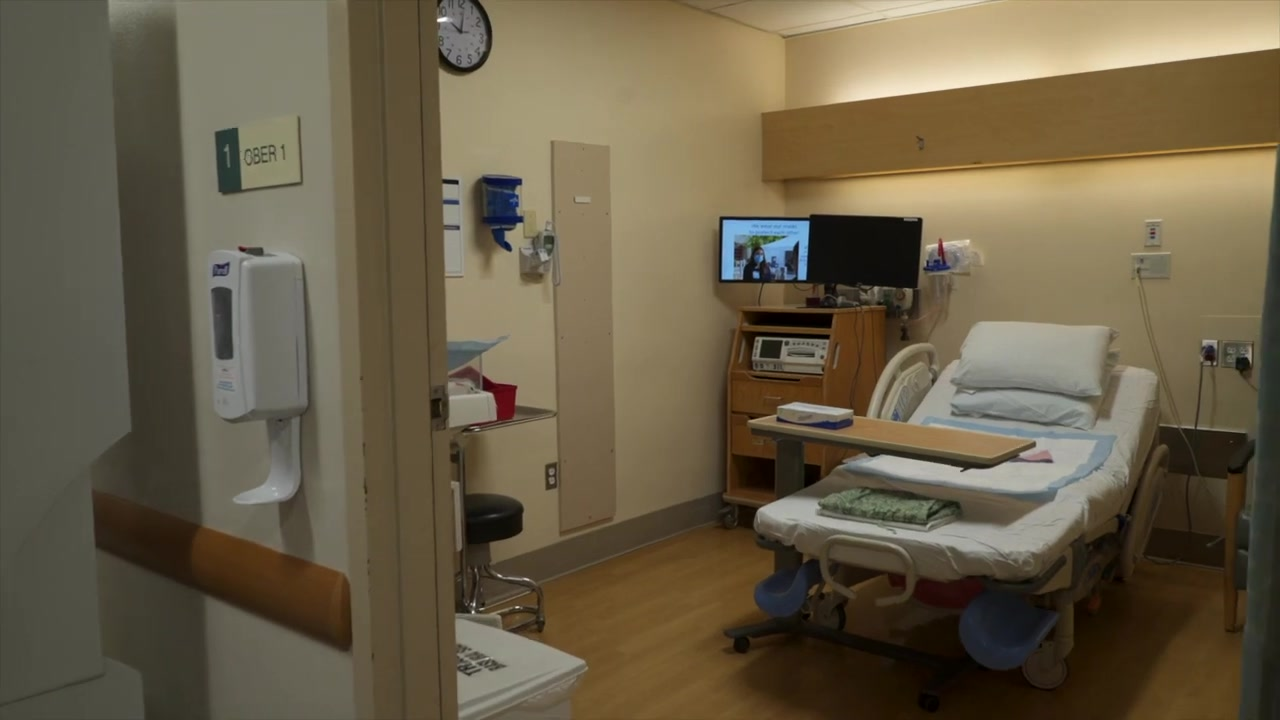bedrail: (866, 342, 940, 457), (1119, 444, 1170, 585)
bedside_monitor: (807, 213, 924, 289), (718, 216, 810, 283)
chair: (454, 493, 547, 633), (1223, 439, 1256, 634)
curtain: (1238, 144, 1280, 720)
dispenser: (206, 246, 309, 505), (477, 174, 525, 253)
handle: (761, 394, 783, 401)
hospital_bed: (753, 321, 1170, 690)
overbed_table: (723, 401, 1037, 713)
telephone: (522, 219, 566, 288)
utility_cart: (450, 413, 570, 632)
waste_bin: (455, 618, 589, 720)
